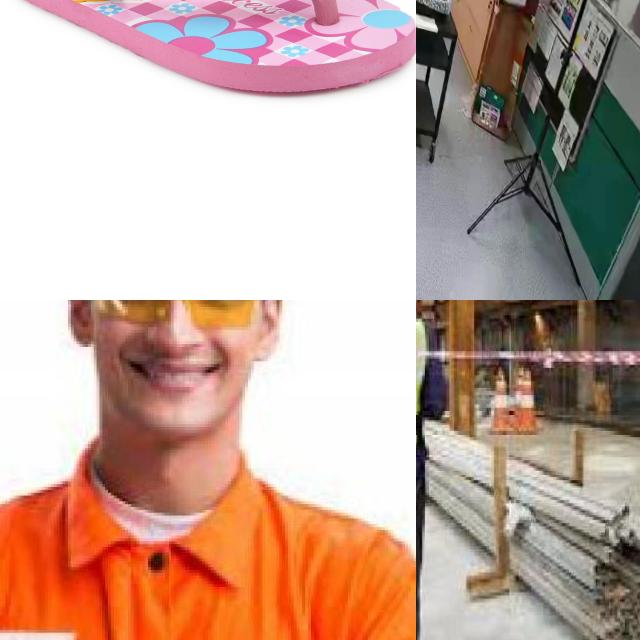No_Ear-Protection: (59, 300, 95, 355), (263, 300, 282, 366)
Sandals: (0, 0, 416, 93)
face_nomask: (96, 300, 256, 436)
